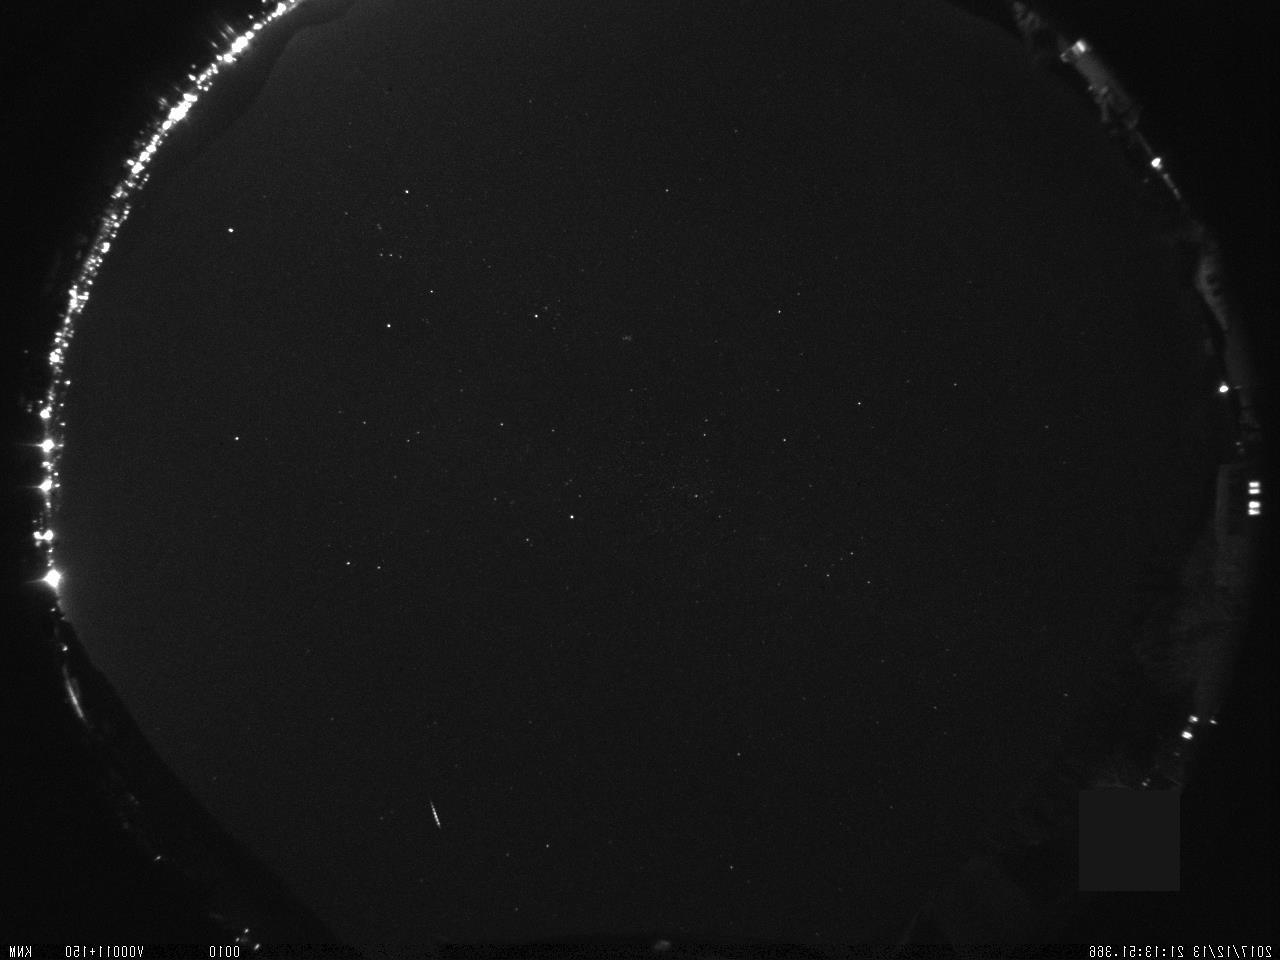meteor: (414, 791, 448, 833)
